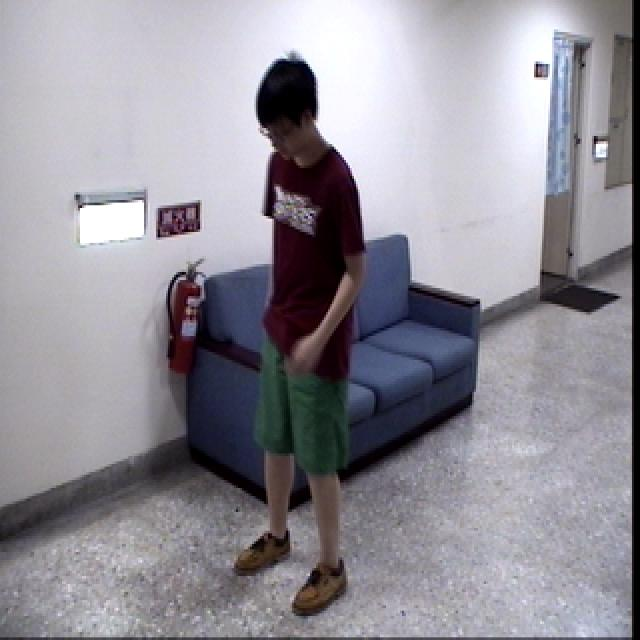stand: (217, 43, 376, 636)
